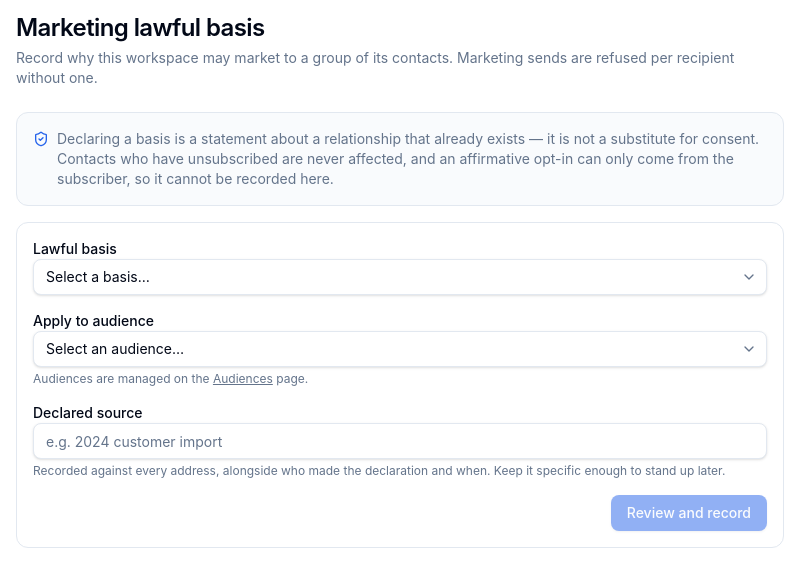
Test: MarketingConsentPage form › requires every field before it will even preview
Expected: the button "Review and record" is disabled, x1=611 y1=495 x2=767 y2=531
Select "Existing business relationship" in the dropdown labelled "Lawful basis" at (400, 277), box x1=33 y1=259 x2=767 y2=295
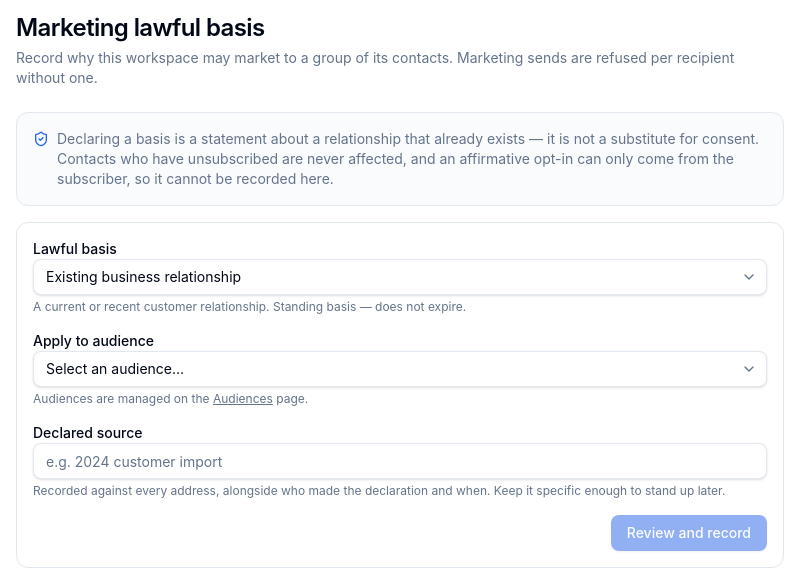
Expected: the button "Review and record" is disabled, x1=611 y1=515 x2=767 y2=551
Select "Customers" in the dropdown labelled "Apply to audience" at (400, 369), box x1=33 y1=351 x2=767 y2=387
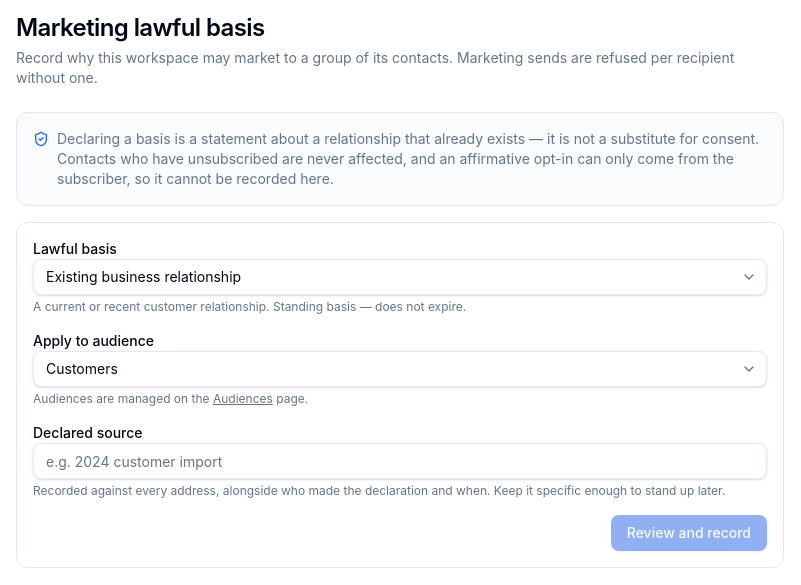
Expected: the button "Review and record" is disabled, x1=611 y1=515 x2=767 y2=551
Type "2024 customer import" into the field labelled "Declared source" at (400, 461), box x1=33 y1=443 x2=767 y2=479
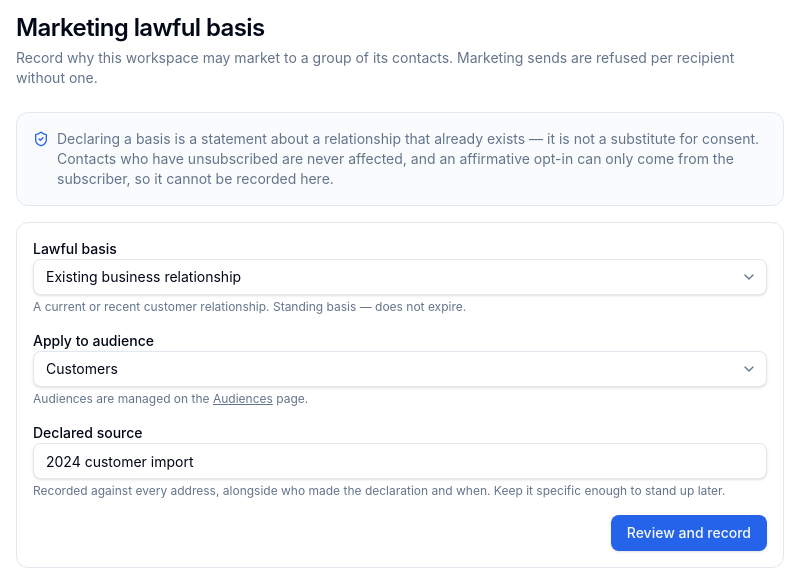
Result: the button "Review and record" is enabled at x1=611 y1=515 x2=767 y2=551
